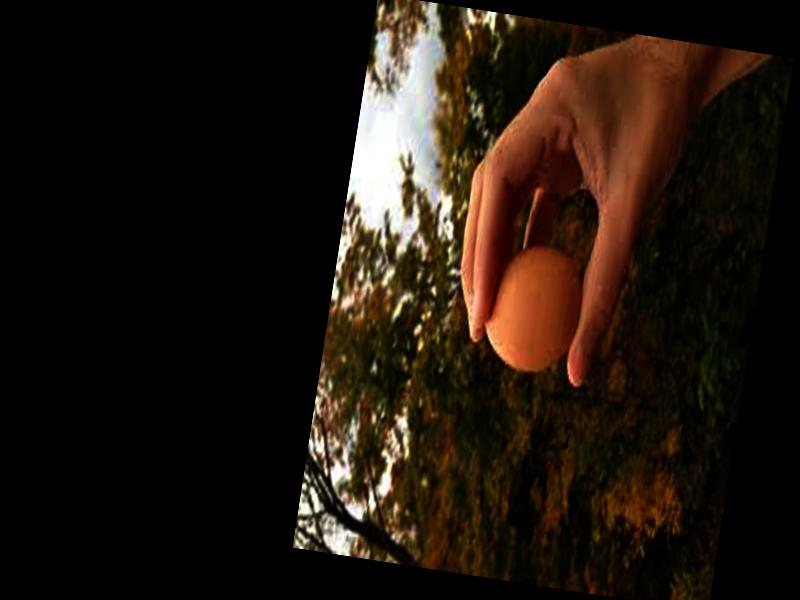Eggs: (477, 240, 589, 377)
